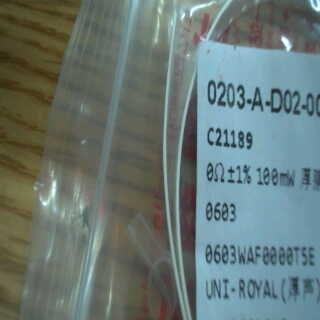0R: (204, 157, 300, 226)
